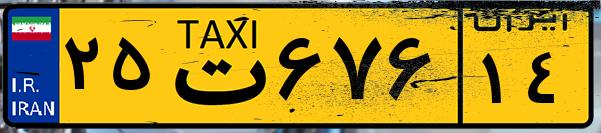1: (475, 38, 525, 113)
2: (57, 26, 110, 100)
4: (525, 38, 570, 115)
5: (110, 28, 158, 98)
6: (270, 28, 330, 110), (385, 28, 445, 110)
7: (330, 28, 385, 110)
ت: (158, 12, 270, 120)
